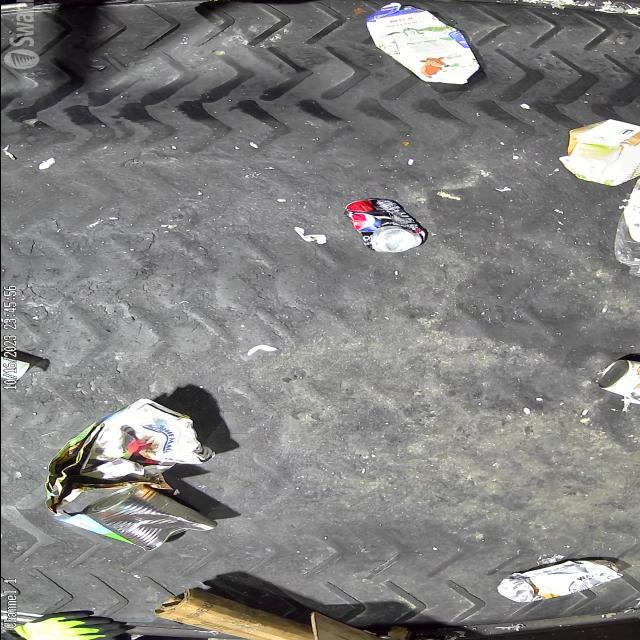can: (78, 485, 214, 552), (496, 558, 624, 602), (342, 198, 426, 252), (598, 358, 640, 404)
non_white_jug: (364, 2, 478, 84), (556, 119, 640, 187)
plastic_bottle: (612, 174, 640, 280)
